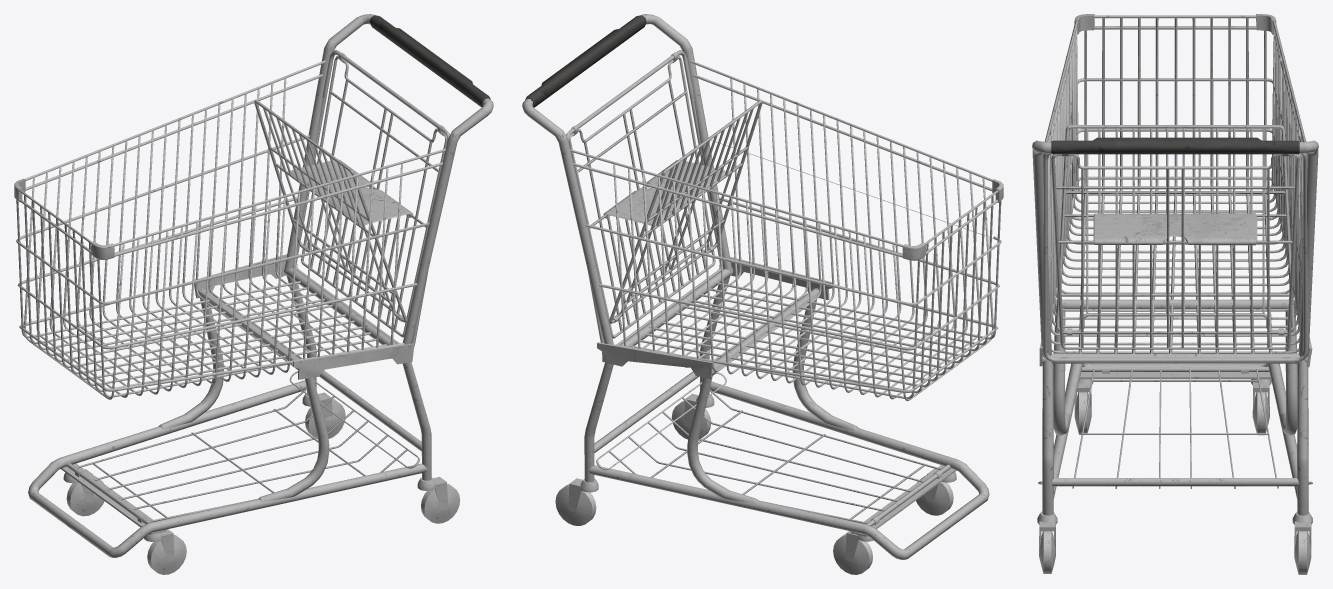
The model's file is SM_Trolley.glb.
The picture shows the model from 3 angles, left to right: view 1: azimuth 30°, elevation 25°; view 2: azimuth 150°, elevation 25°; view 3: azimuth 270°, elevation 25°; orthographic projection. The views are drawn at different scales.
Visible parts, largest first — view 1: SM_Trolley; view 2: SM_Trolley; view 3: SM_Trolley.
Boxes of the visible parts, x1=… form: SM_Trolley: x1=14, y1=14, x2=493, y2=574; SM_Trolley: x1=522, y1=14, x2=1003, y2=574; SM_Trolley: x1=1032, y1=14, x2=1318, y2=574.
Bounding box in the file's own units: 0.8912 × 0.9236 × 0.5228.
3 materials, 3 textured.
